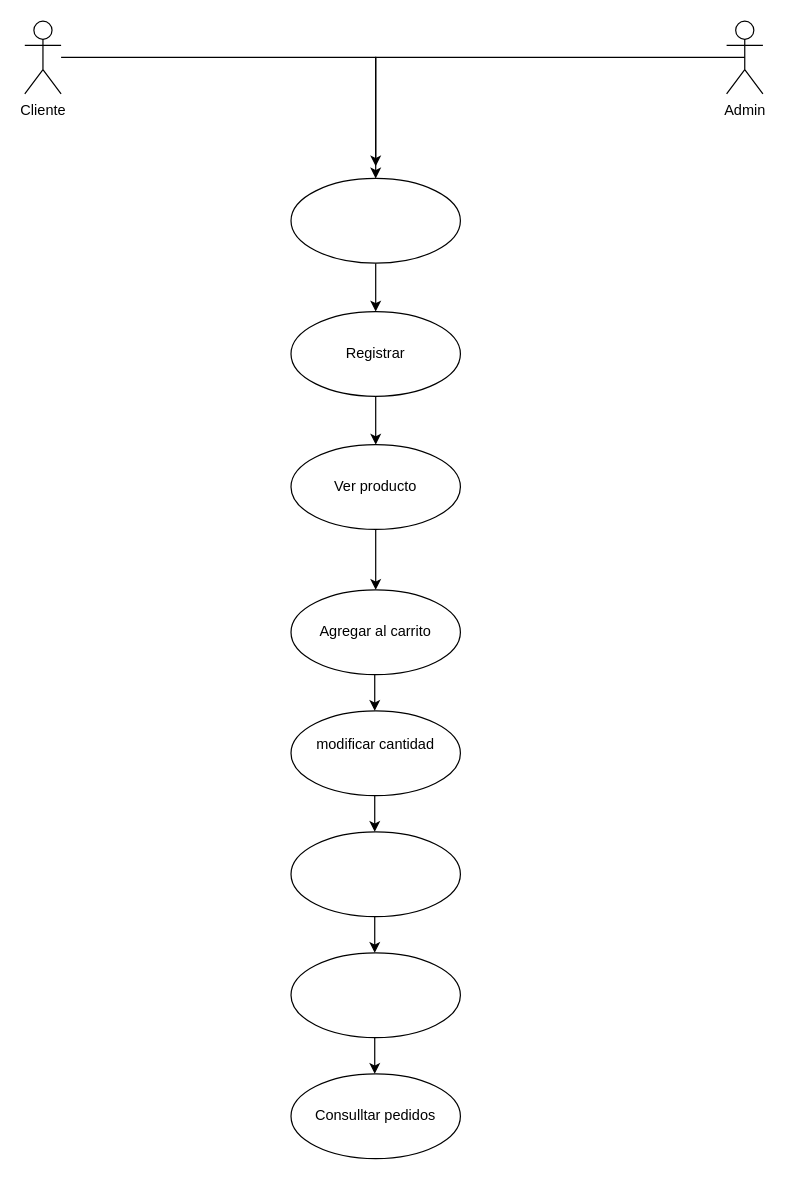
Some shapes in this 787 by 1180 pixel diagram are drawn without their labels. The shapes that lost their labels are listed below. From the top down, each one's box as (x1, y1, x2, y2) in pixels, then its label:
(290, 177, 460, 263): Iniciar sesión
(290, 831, 460, 917): eliminar carrito
(290, 952, 460, 1038): Finalizar compra
